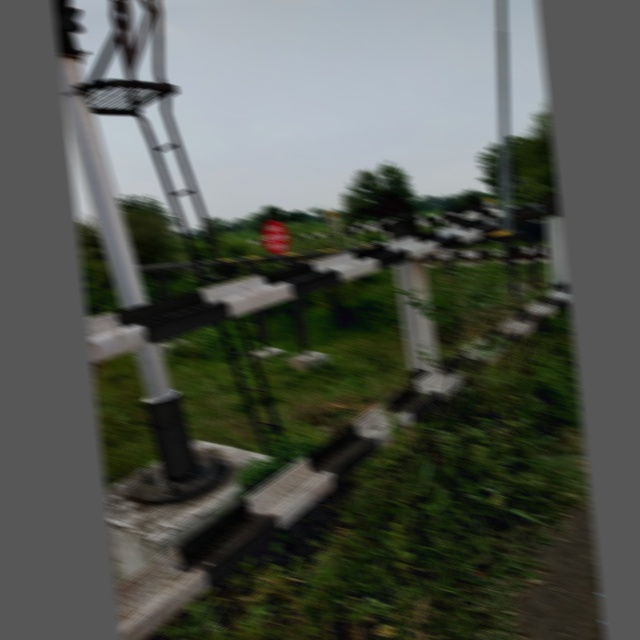Stop: (261, 218, 289, 256)
